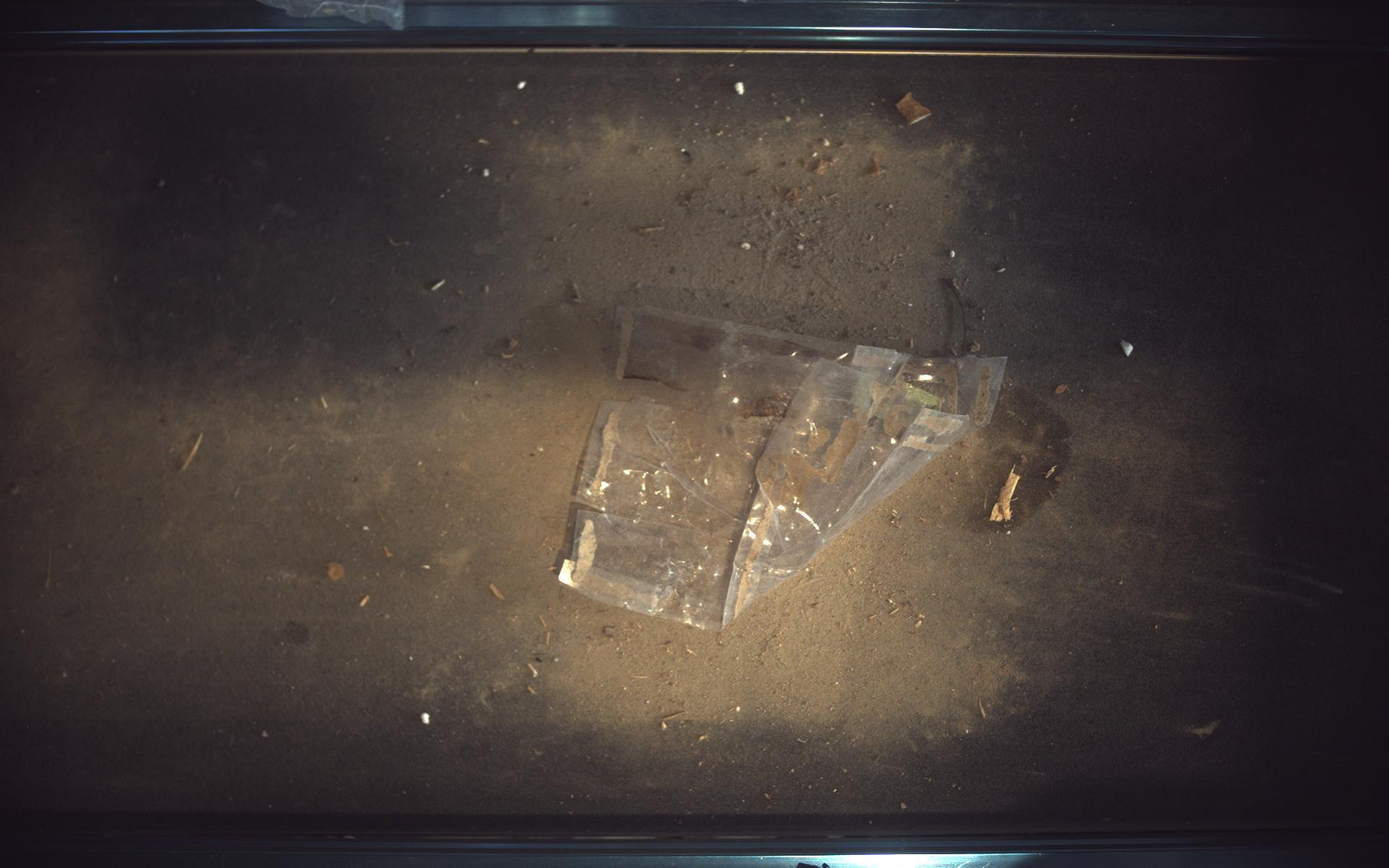general_w: (558, 305, 1008, 631)
